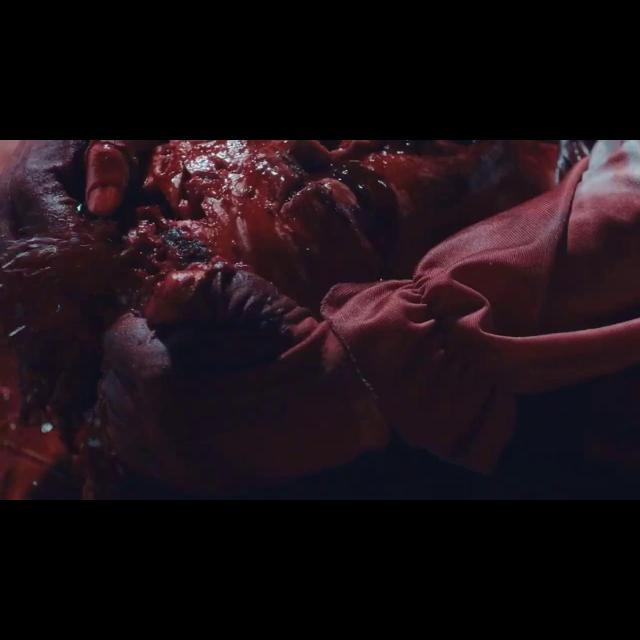blood: (0, 140, 640, 498)
